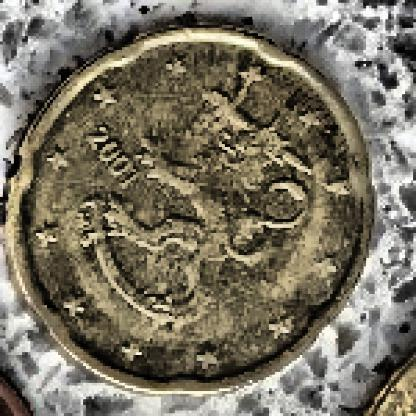coin: (4, 30, 374, 393)
